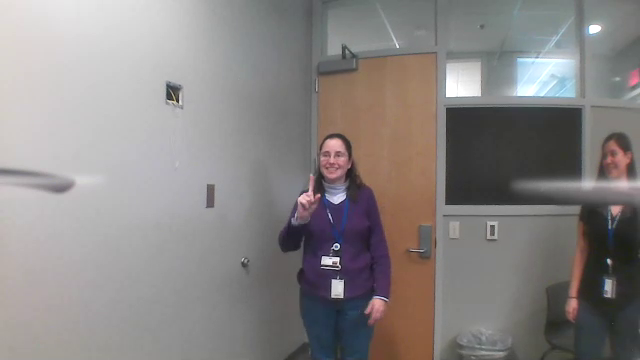up: (293, 172, 324, 215)
